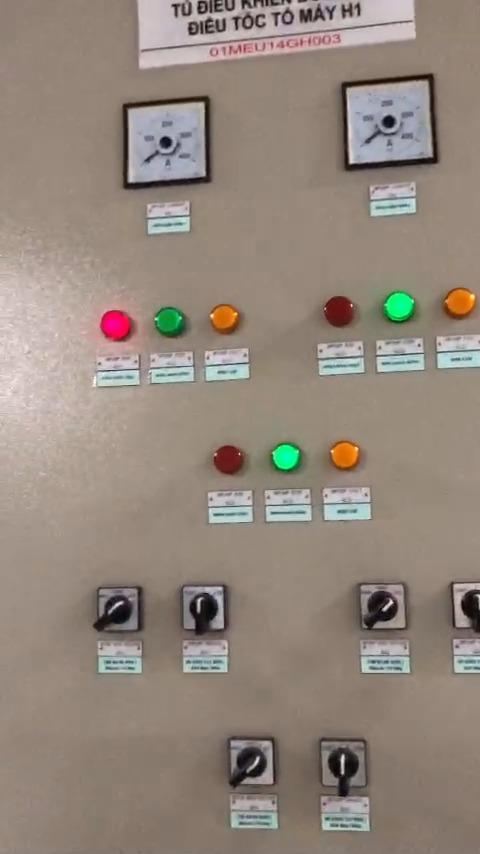led: (382, 292, 418, 328), (154, 306, 190, 341), (321, 294, 356, 329), (211, 444, 246, 479), (270, 440, 304, 476), (99, 309, 137, 341), (330, 436, 364, 471), (209, 302, 240, 336), (445, 289, 478, 319)
twist: (179, 583, 229, 634), (95, 586, 143, 638), (319, 738, 365, 792), (227, 738, 274, 788), (359, 584, 408, 630), (451, 582, 480, 632)
